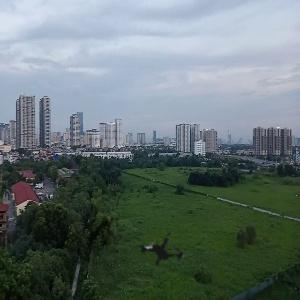drone: (117, 206, 204, 293)
